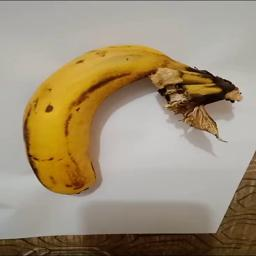Banana Semifresh: (23, 41, 244, 195)
